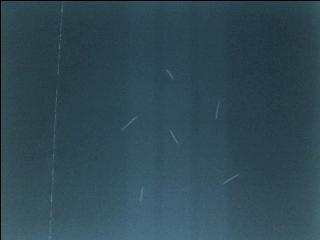crack: (45, 0, 66, 240)
scratch: (212, 164, 242, 186), (119, 111, 144, 135), (163, 121, 183, 147), (210, 96, 226, 121), (161, 65, 180, 84), (136, 183, 148, 206)
